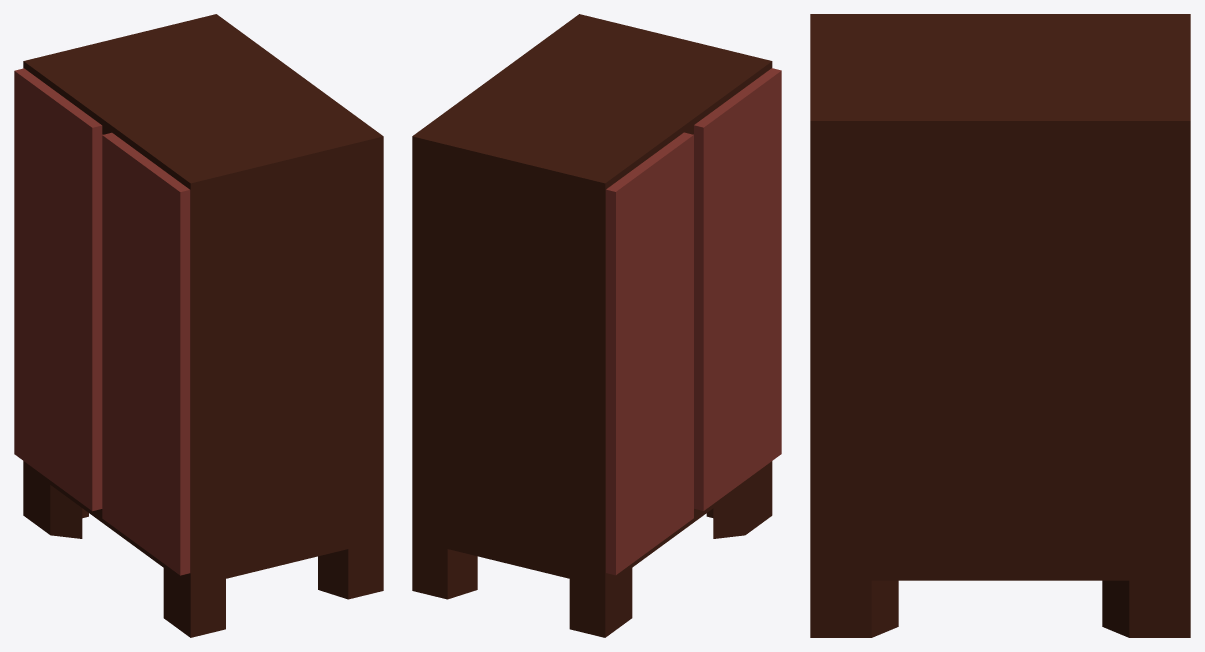
Rendered from CupboardMonster.fbx.
3 renders of one model, left to right at view 1: azimuth 30°, elevation 25°; view 2: azimuth 150°, elevation 25°; view 3: azimuth 270°, elevation 25°, orthographic. The views are drawn at different scales.
Parts seen in each view (by area): view 1: Cupboard, leftDoor, rightDoor; view 2: Cupboard, leftDoor, rightDoor; view 3: Cupboard.
Part boxes in pixels (<box>): Cupboard: <box>23,14,383,637</box>; leftDoor: <box>14,68,102,511</box>; rightDoor: <box>102,132,190,575</box>; Cupboard: <box>412,14,772,637</box>; leftDoor: <box>606,132,693,575</box>; rightDoor: <box>693,68,781,510</box>; Cupboard: <box>810,14,1190,637</box>.
Bounding box in the file's own units: 210 × 450 × 300.
